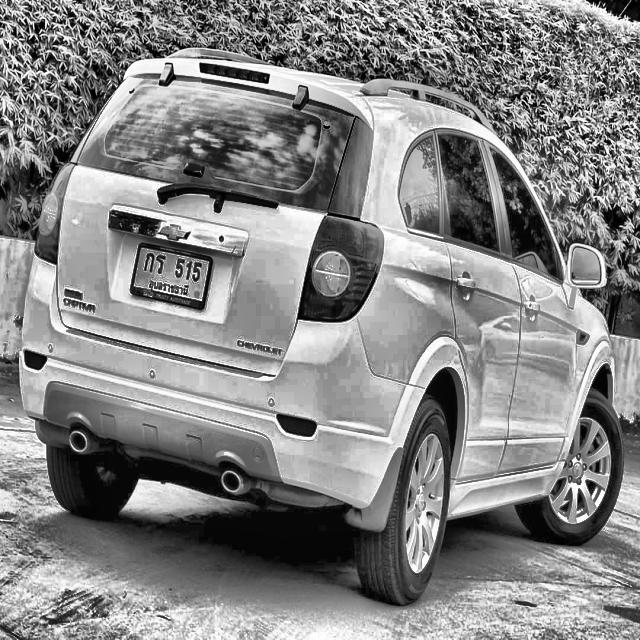license-plate: (129, 240, 215, 312)
